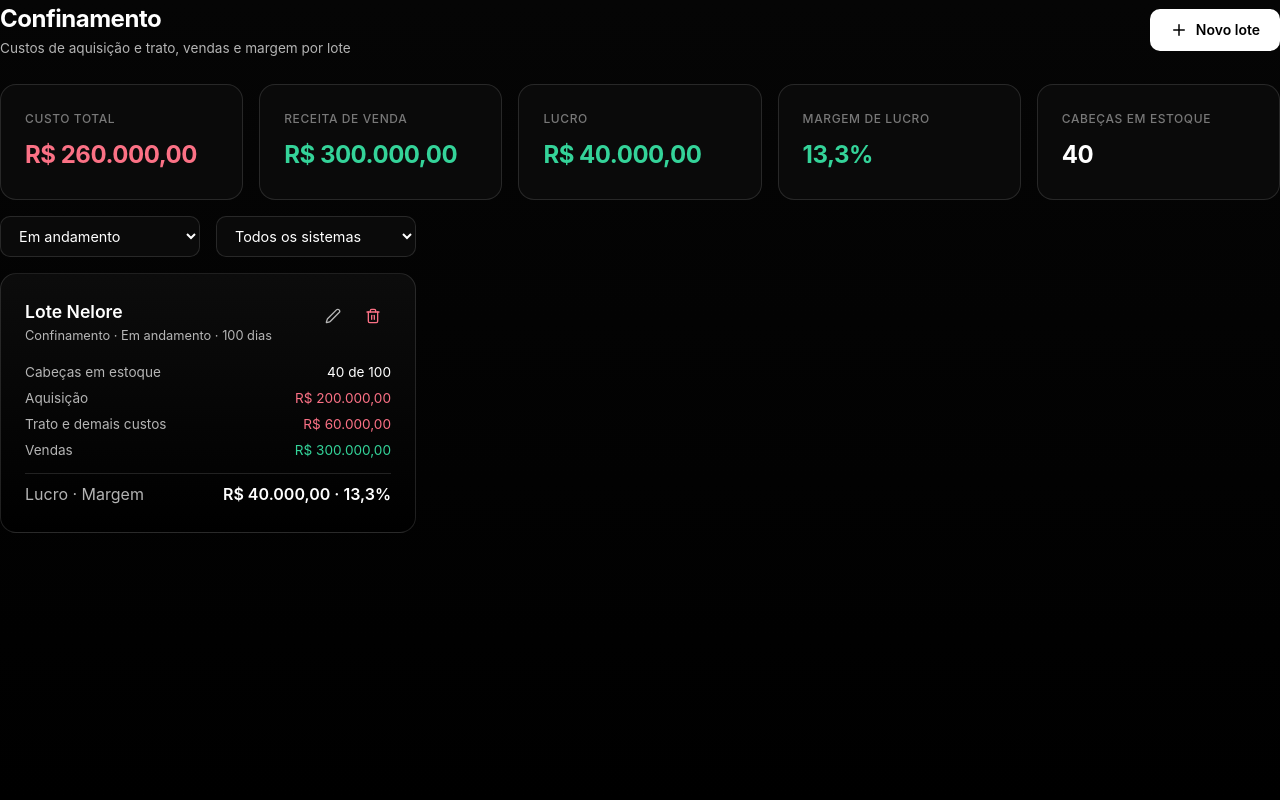
Test: Cattle page › shows why the API refused to delete an acquisition that was already sold
The image size is (1280, 800).
Click the heading "Lote Nelore" at [74, 311], box [25,301,123,322]
(page scrolled)
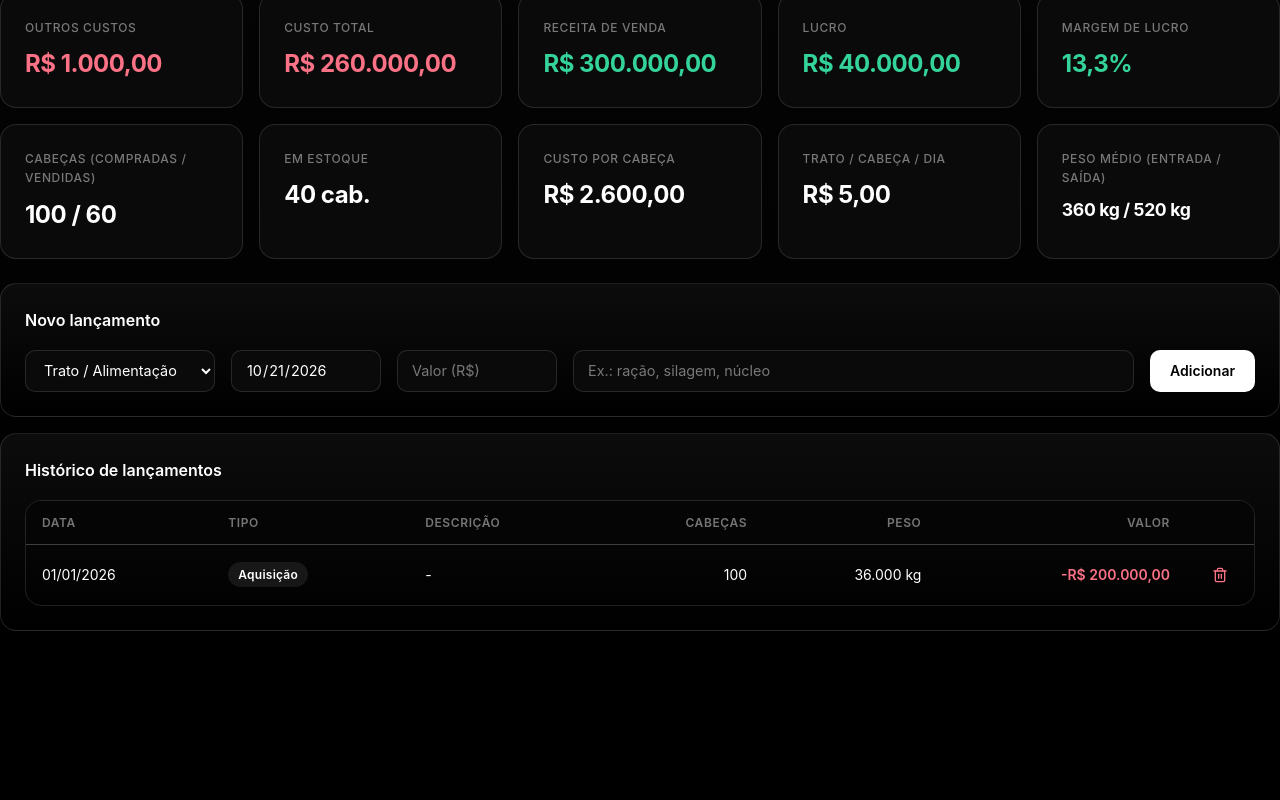
Click the button named "Excluir lançamento" at [1220, 575], box [1202,557,1238,593]
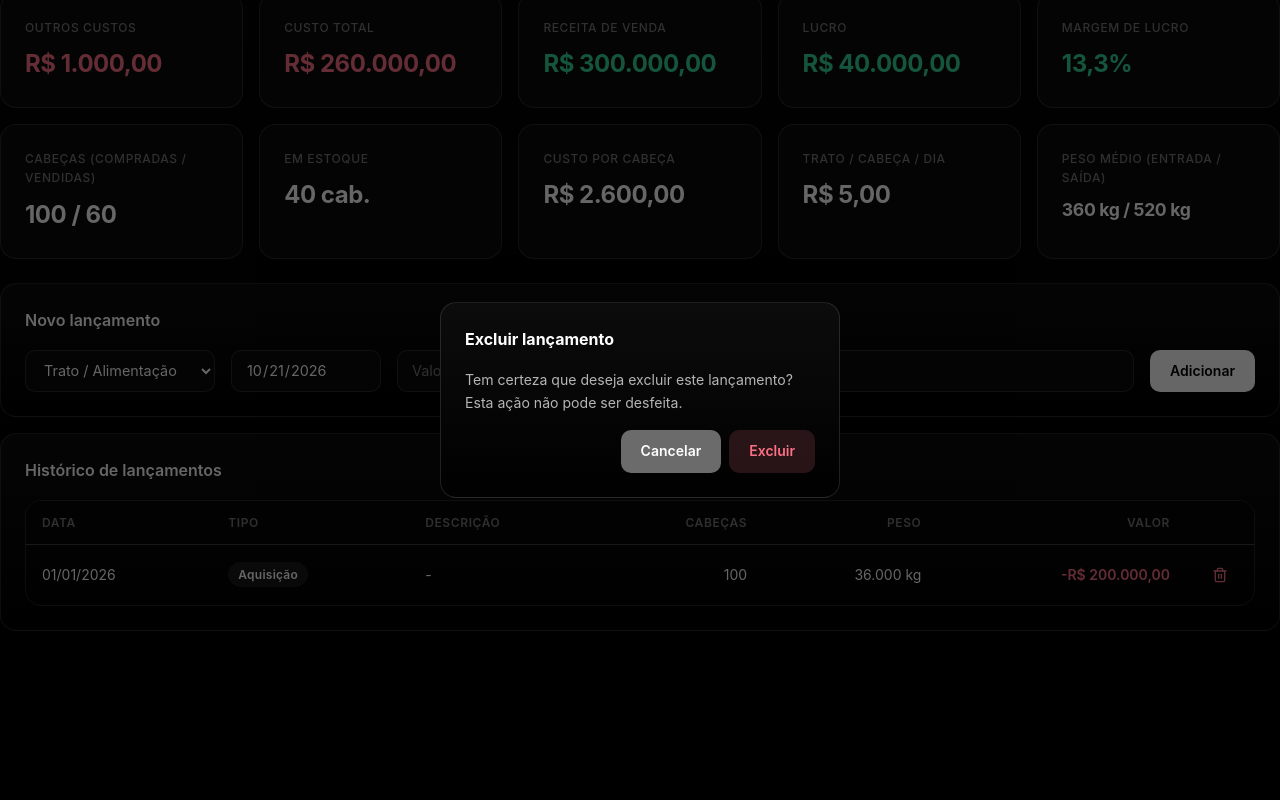
Click the button "Excluir" at [772, 451], box [729,430,815,472]
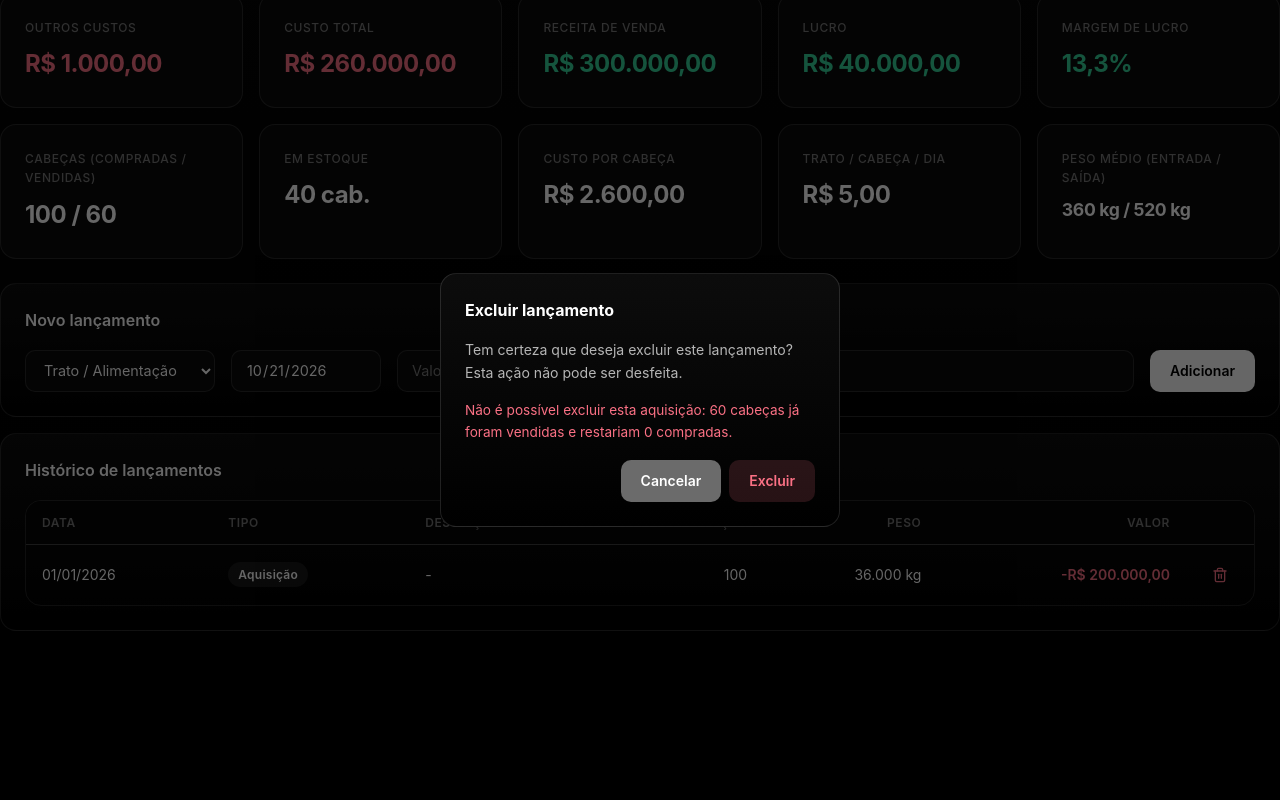
Now the text "já foram vendidas" is shown, box [465,402,800,440]
